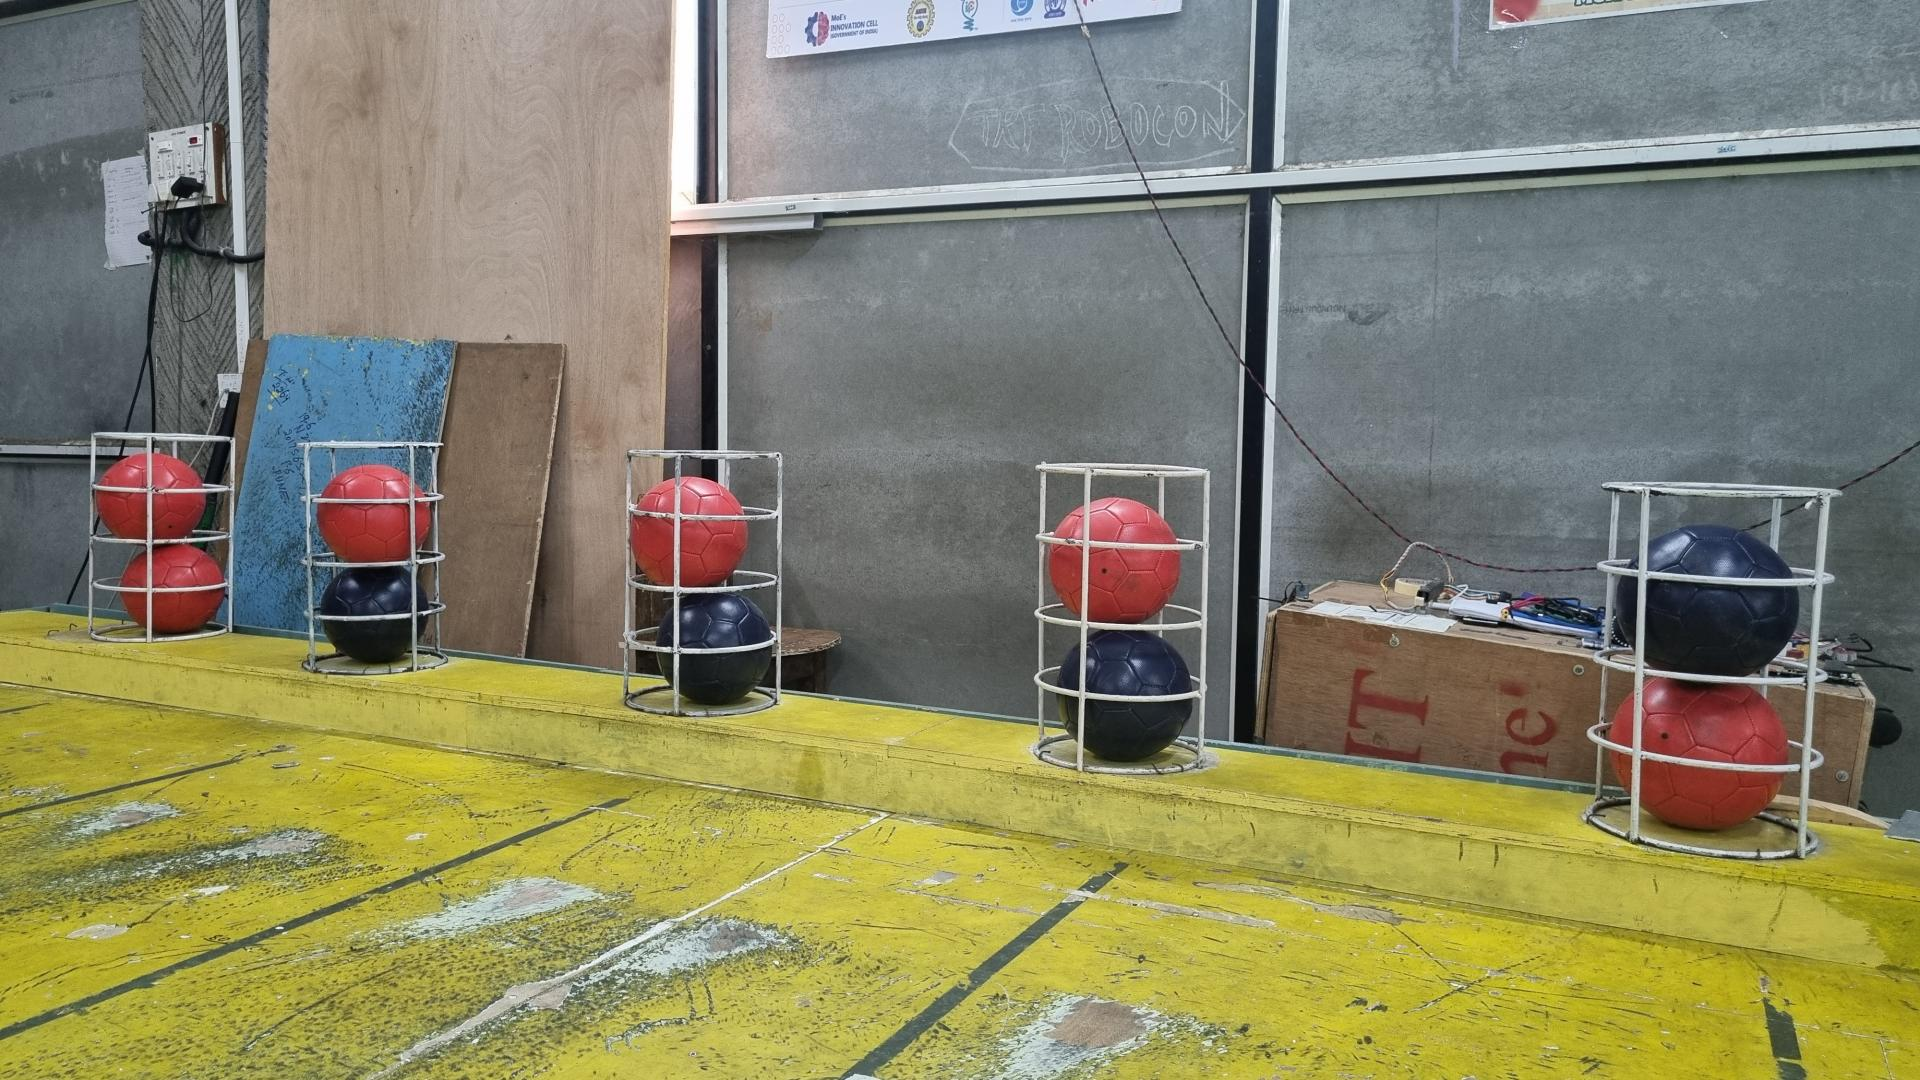dhoka: (1610, 522, 1797, 675), (1055, 632, 1191, 762), (655, 591, 771, 707), (318, 570, 430, 667)
laale: (1609, 675, 1788, 832), (1044, 495, 1179, 622), (629, 475, 746, 591), (318, 464, 430, 566), (94, 454, 206, 539), (120, 547, 225, 637)
